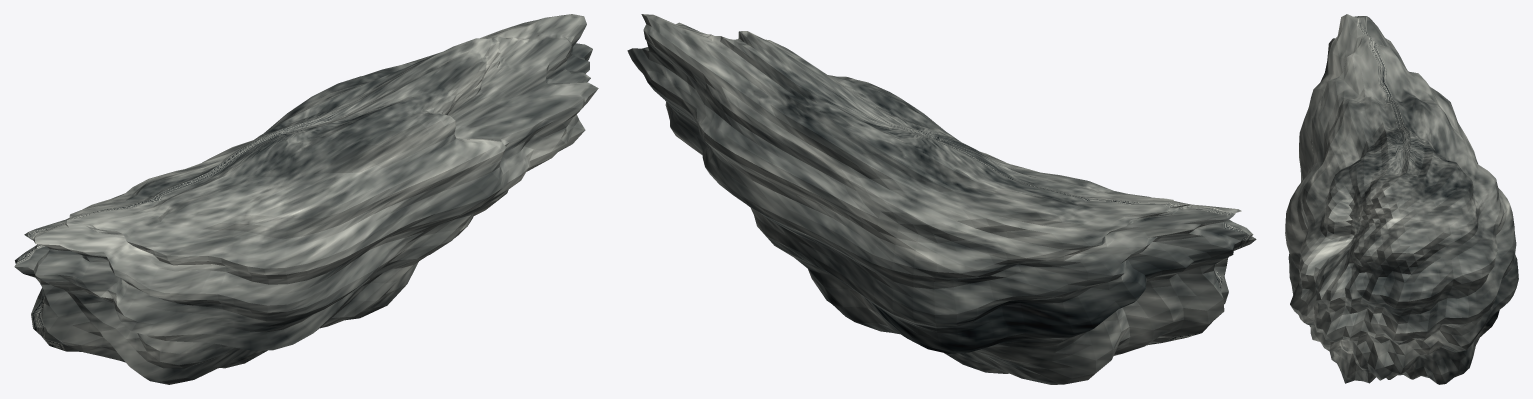
File: crooked.glb
3 renders of one model, left to right at view 1: azimuth 30°, elevation 25°; view 2: azimuth 150°, elevation 25°; view 3: azimuth 270°, elevation 25°, orthographic. The views are drawn at different scales.
Visible parts, largest first — view 1: rock; view 2: rock; view 3: rock.
Part boxes in pixels (x1,y1,x2,y2): rock: [14, 14, 598, 384]; rock: [627, 14, 1256, 384]; rock: [1285, 14, 1518, 384].
Bounding box in the file's own units: 32.01 × 13.75 × 9.46.
Materials: 1 (1 with a texture image).
